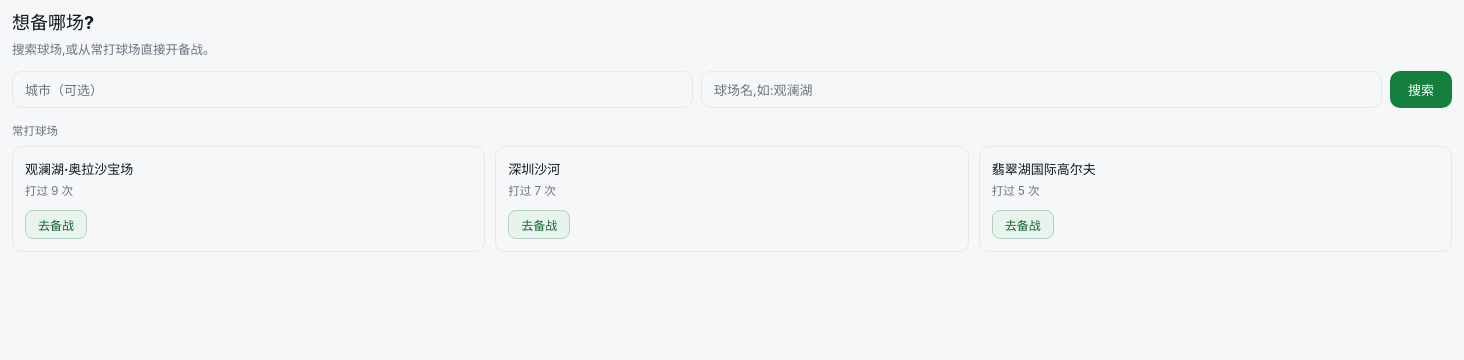
Test: CourseFinder › discards a stale search response that resolves after a newer search
Type "旧搜索" into the field named "搜索球场".
click(1042, 90); type("旧搜索")  # box x1=701 y1=71 x2=1382 y2=108
Then press Enter
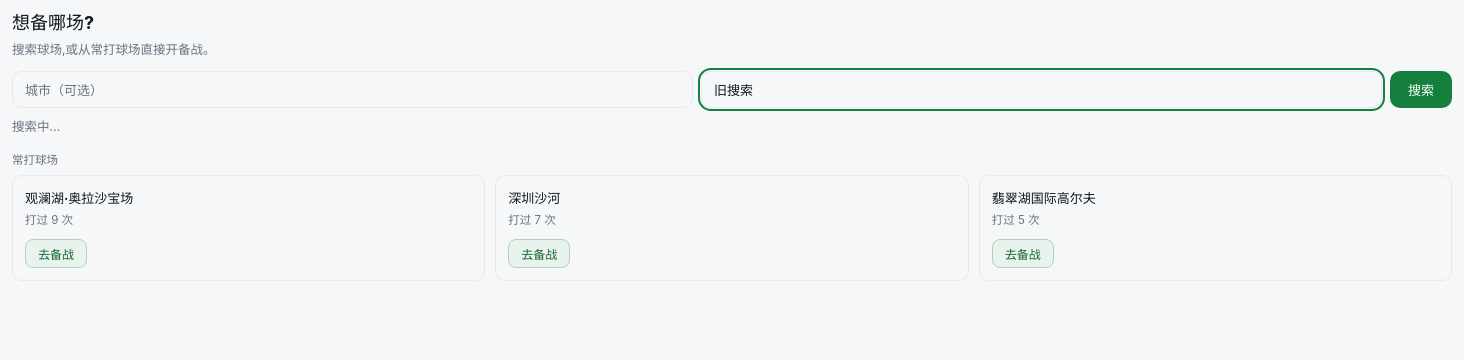
Replace the text in the field named "搜索球场" with "观澜湖" at (1042, 90), box x1=701 y1=71 x2=1382 y2=108
Then press Enter
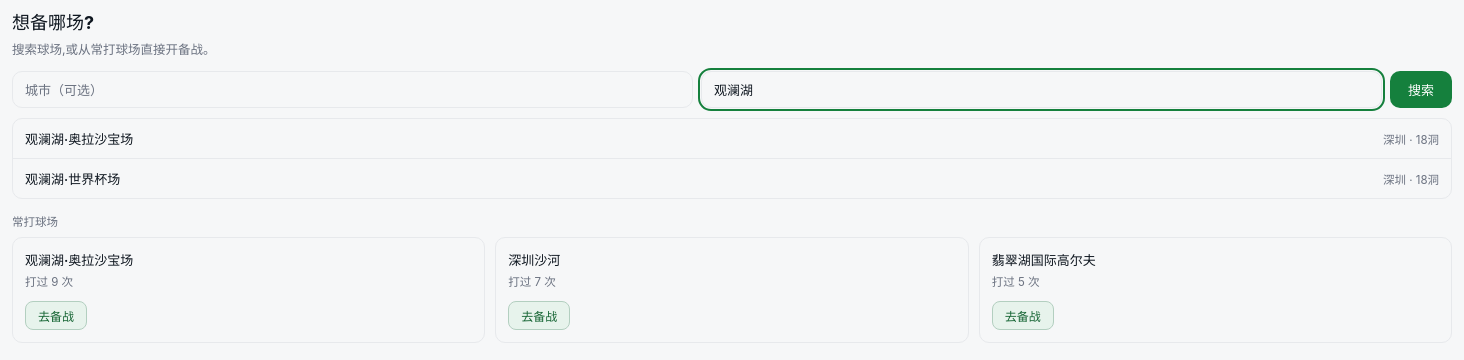
Expected: the text "观澜湖·世界杯场" is shown, x1=25 y1=169 x2=120 y2=188
